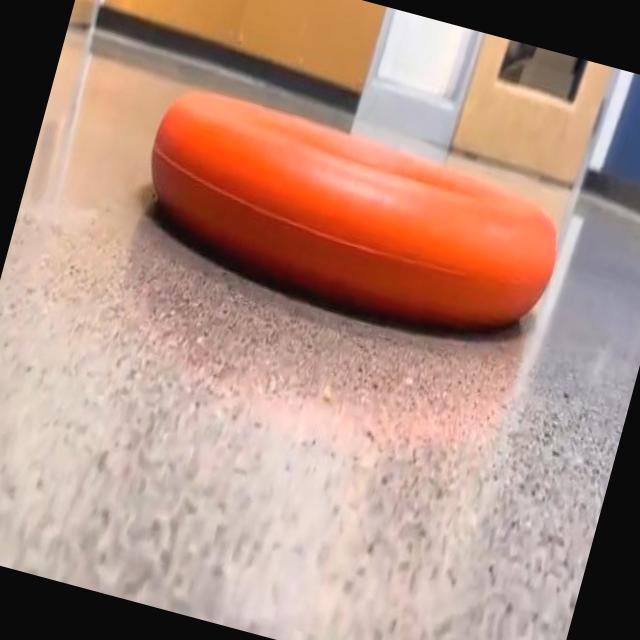note: (151, 91, 556, 328)
